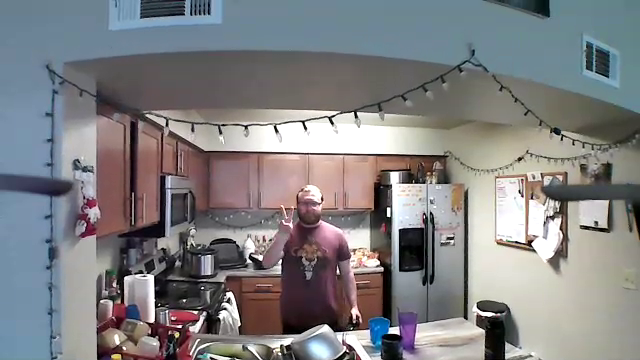peace: (273, 202, 299, 238)
